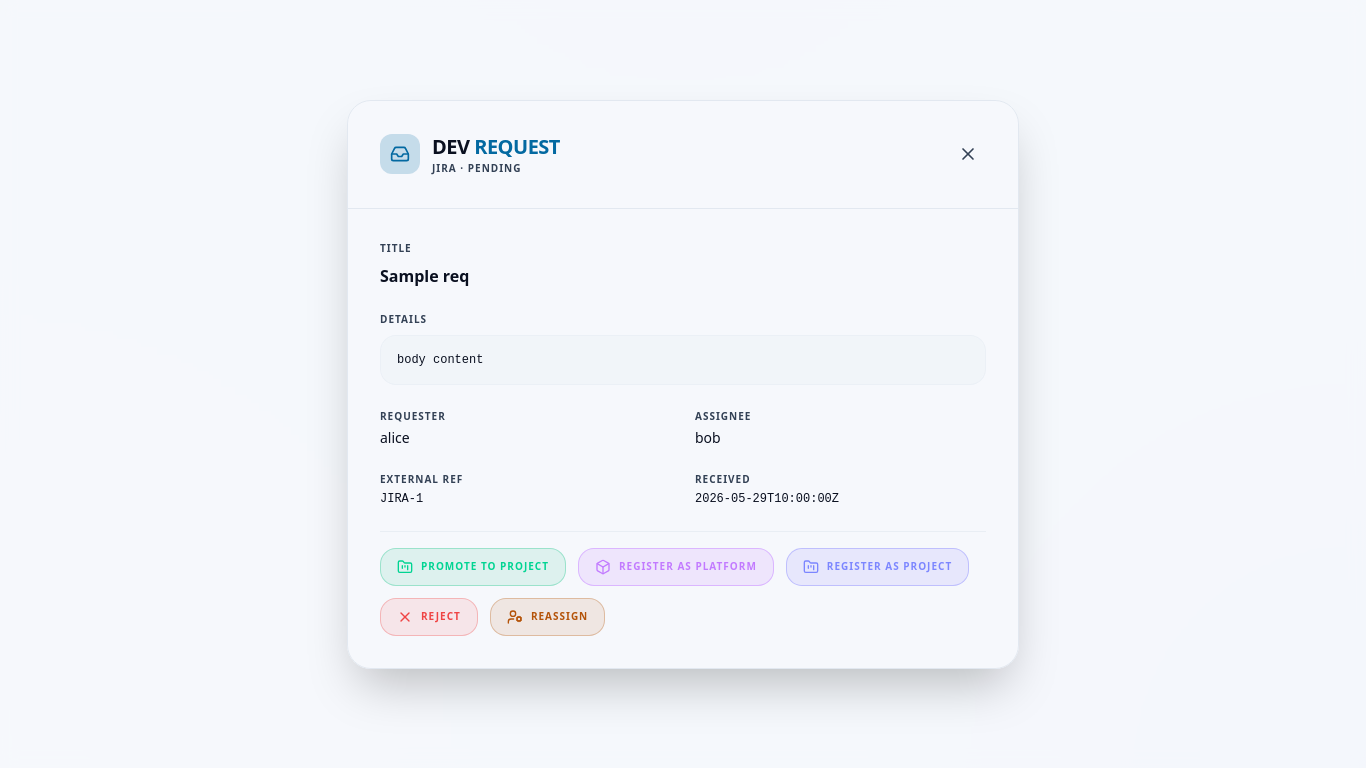
Test: DevRequestDetailModal › shows error when reassign target is same as current assignee
Step 1. Click the button "Reassign" → click(548, 616), box top-left (490, 598), bottom-right (605, 636)
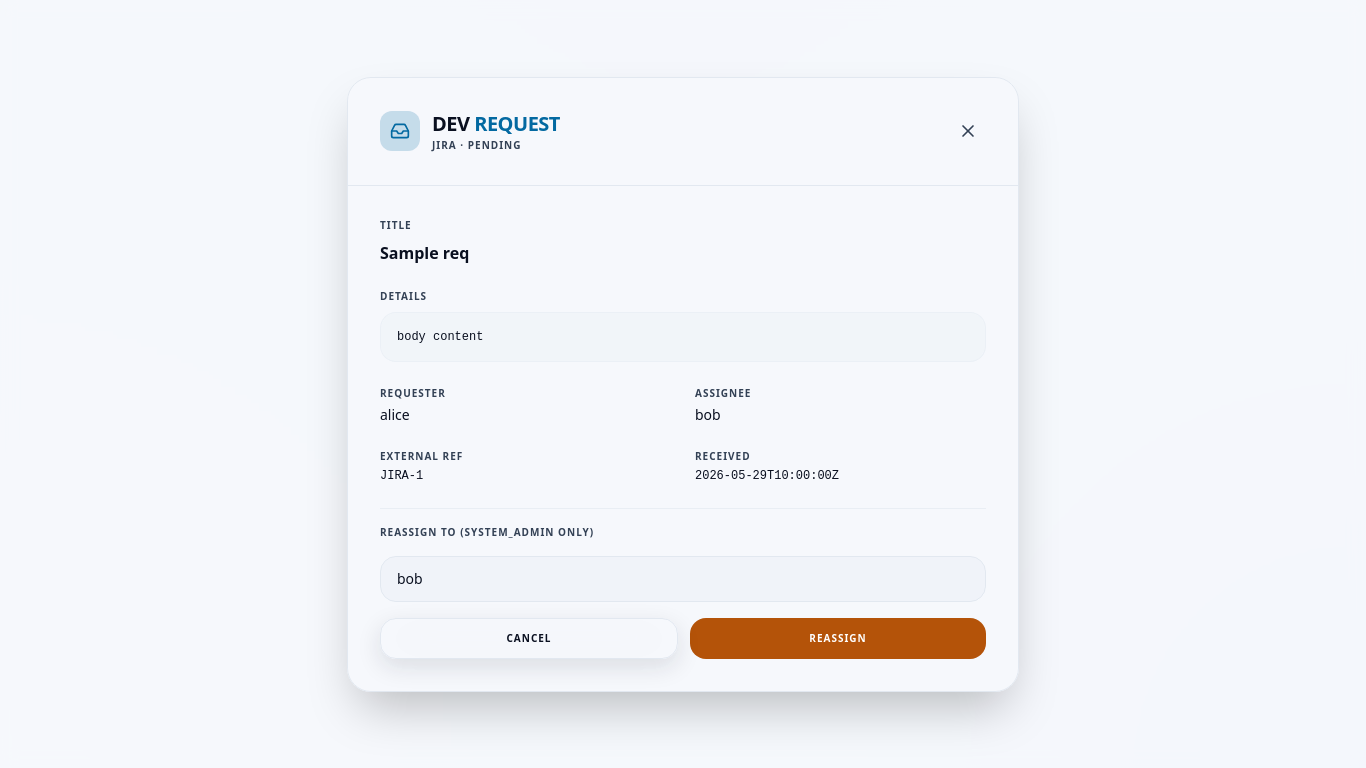
Note: input pre-fills with current assignee — click Reassign w/o change
Step 2. Click the button "Reassign" → click(838, 638), box top-left (690, 618), bottom-right (986, 658)
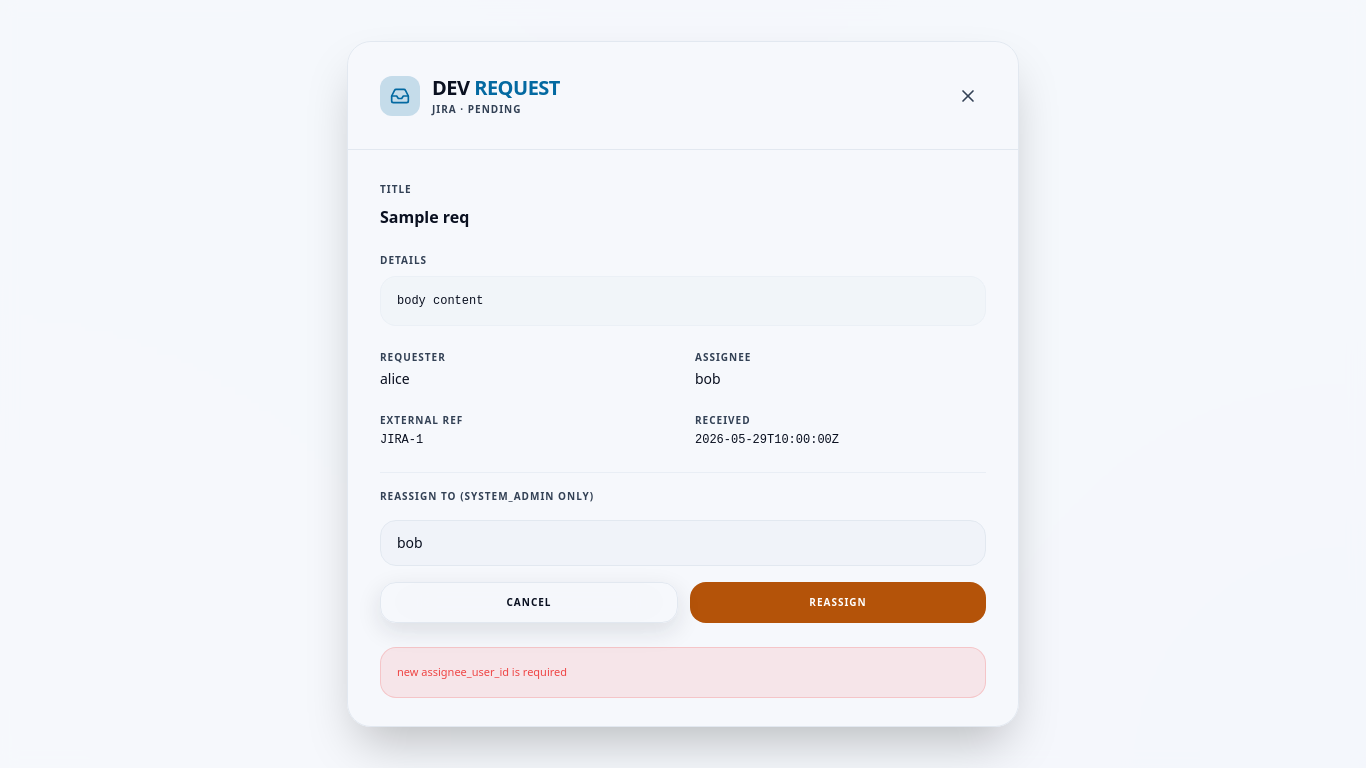
expect the text "new assignee_user_id is required" is shown: met, box top-left (380, 647), bottom-right (986, 698)
